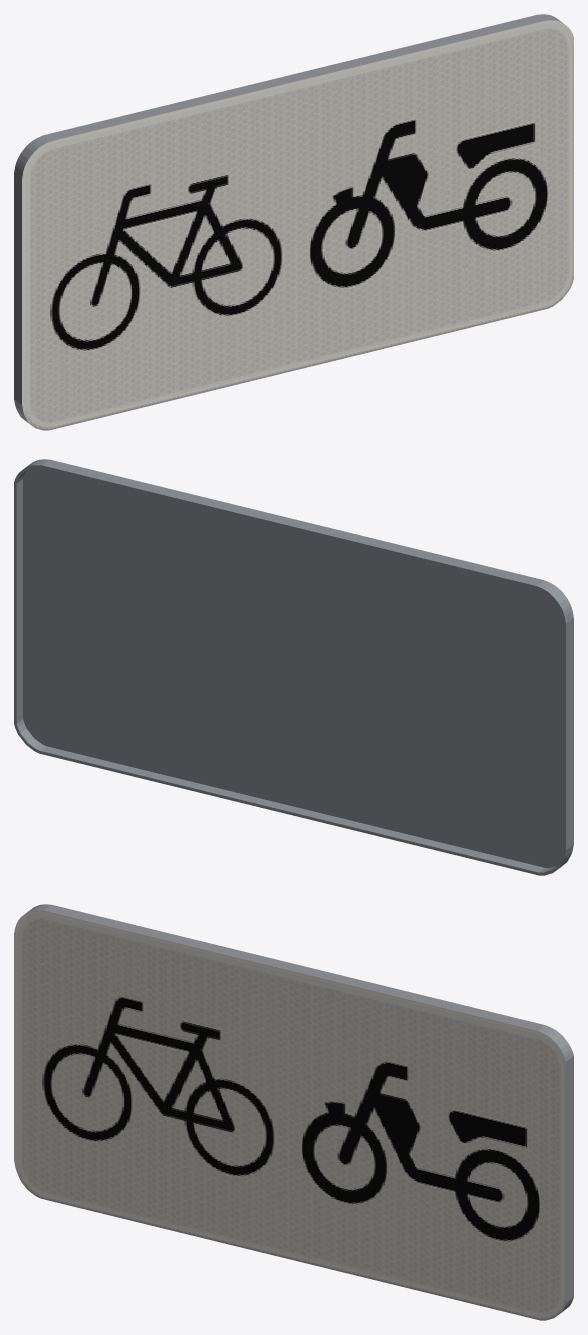
3 views of the same model, one above another, from view 1: azimuth 30°, elevation 25°; view 2: azimuth 150°, elevation 25°; view 3: azimuth 330°, elevation 25° (orthographic).
Parts seen in each view (by area): view 1: cat_17d4f0c4b948d261; view 2: cat_17d4f0c4b948d261; view 3: cat_17d4f0c4b948d261.
Part boxes in pixels (x1,y1,x2,y2): cat_17d4f0c4b948d261: (14,14,573,430); cat_17d4f0c4b948d261: (14,459,573,875); cat_17d4f0c4b948d261: (14,904,573,1320).
Bounding box in the file's own units: 0.6 × 0.015 × 0.3.
2 materials, 1 textured.
